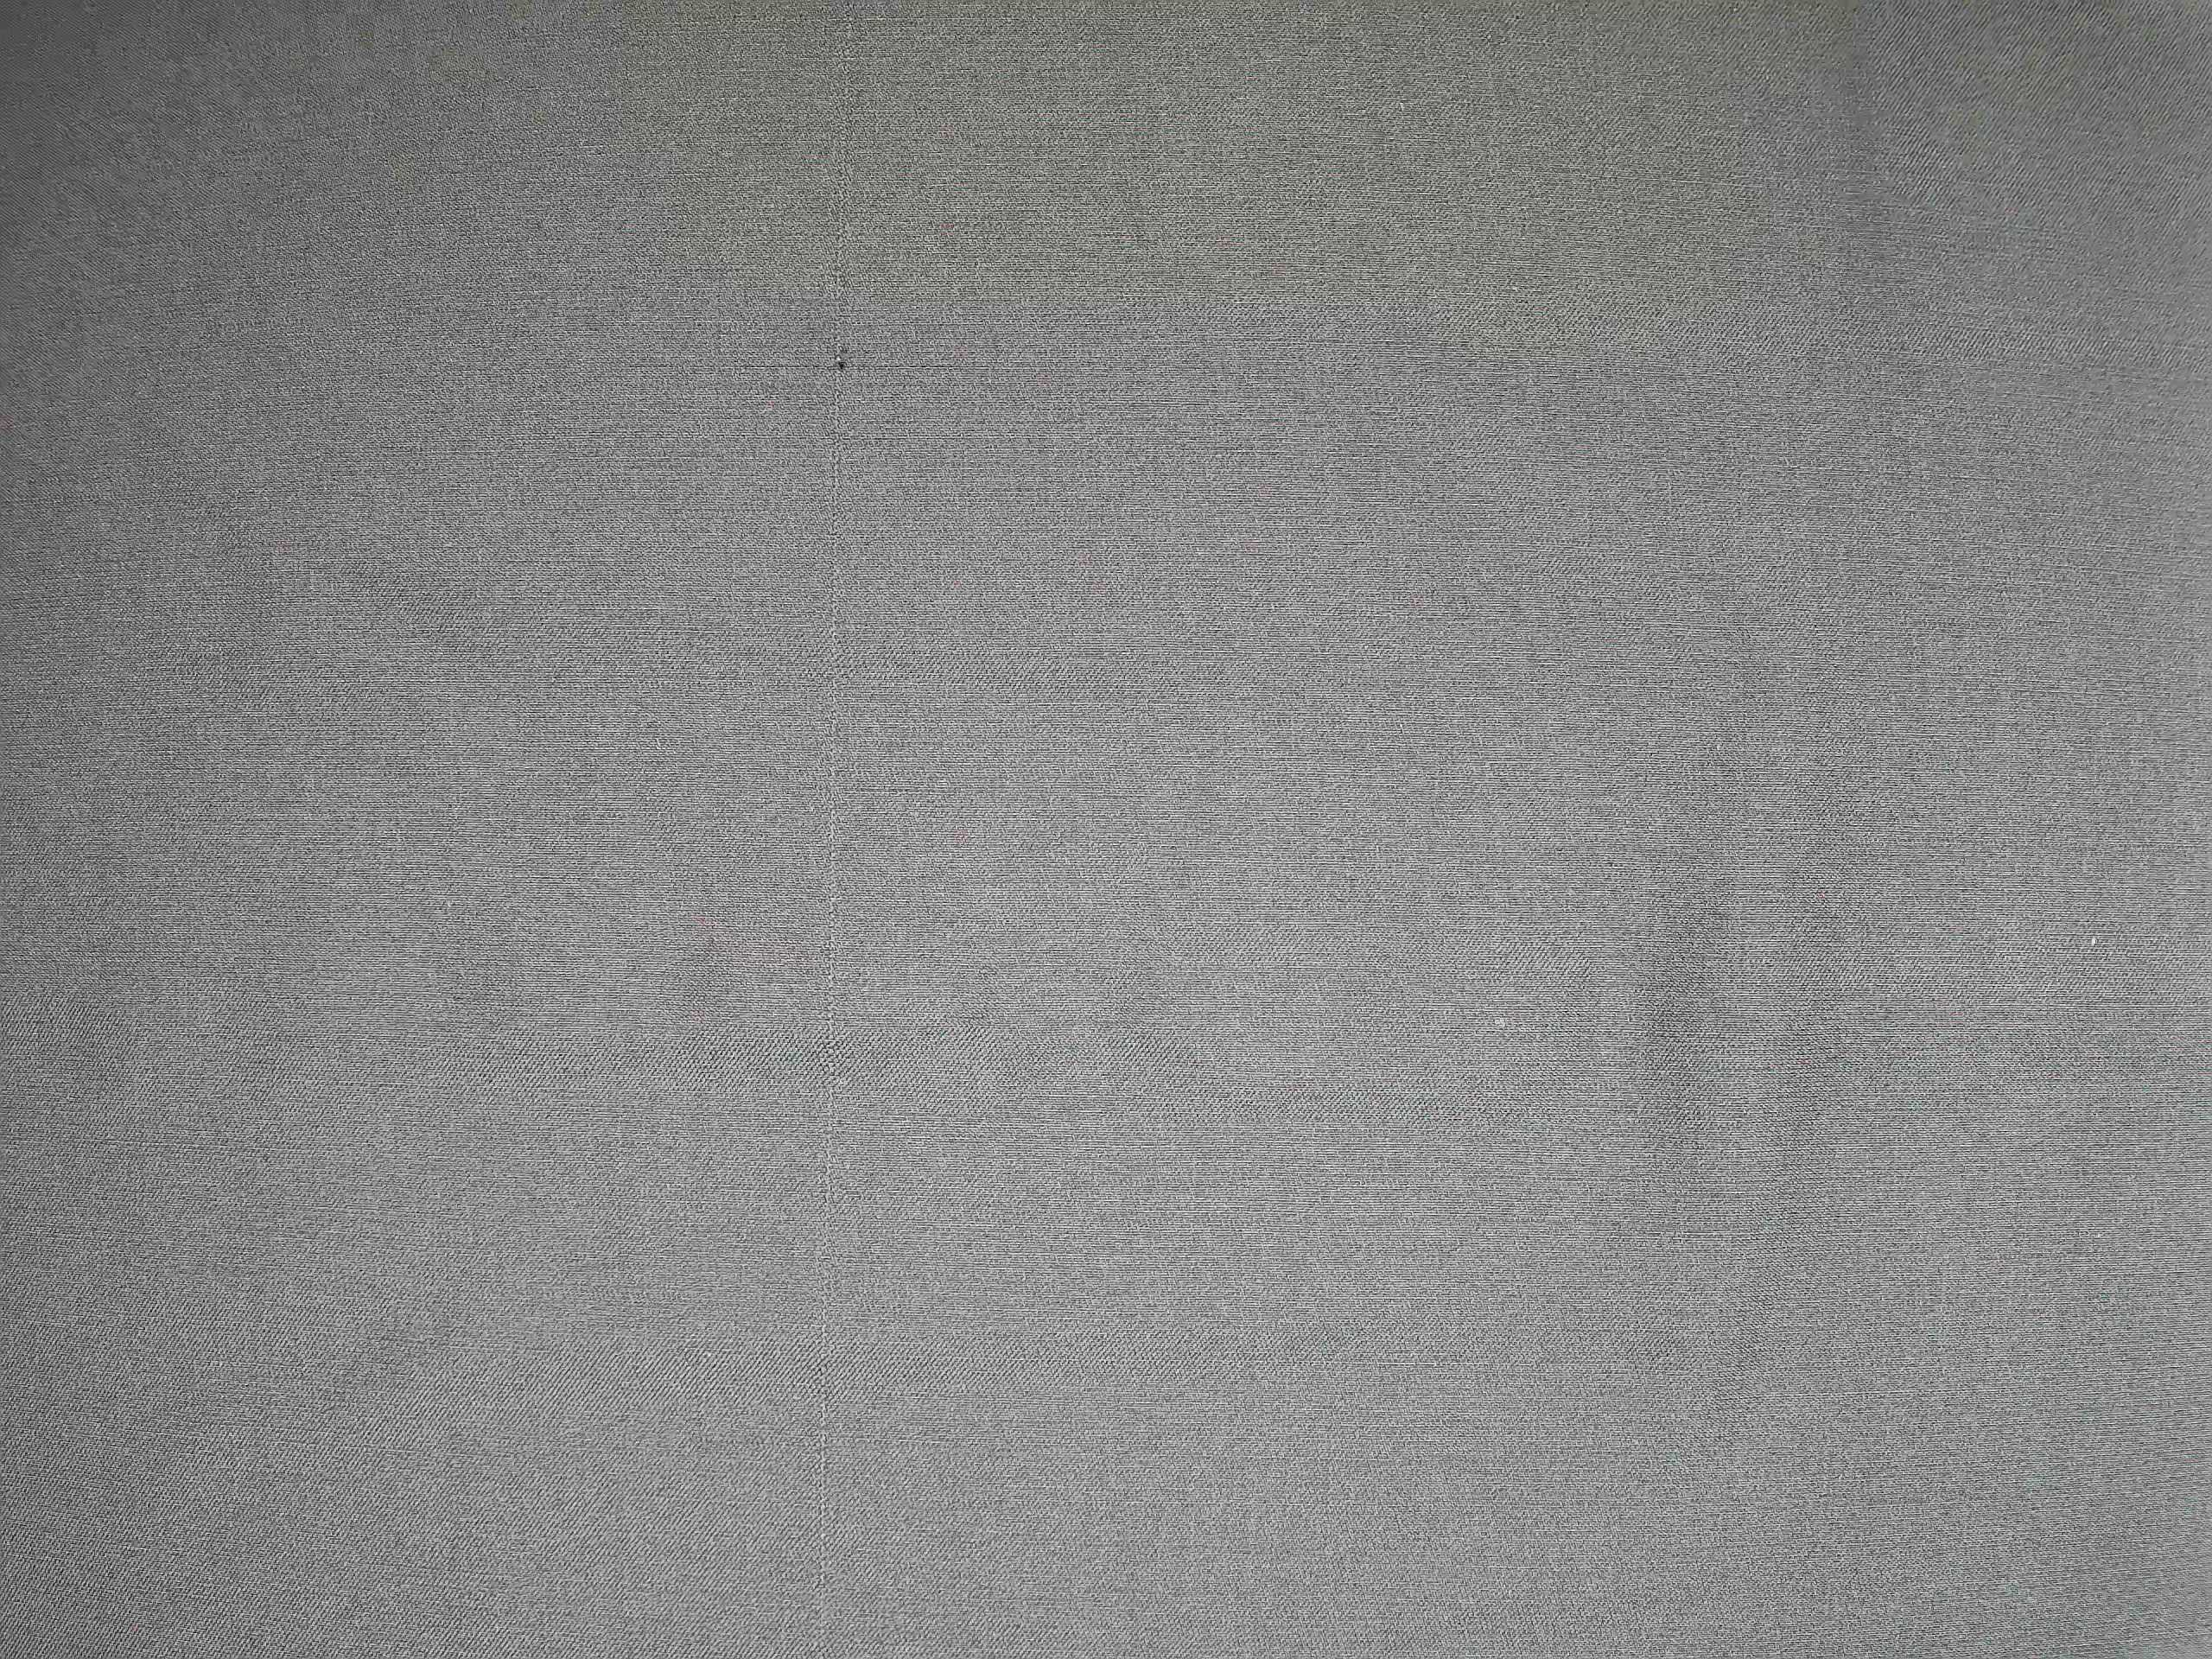lacking-warp: (813, 2, 874, 1600)
